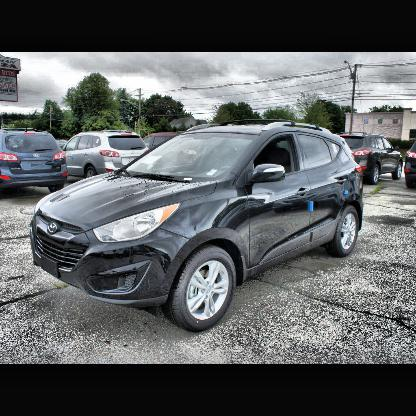Hyundai Tucson SUV 2012: (30, 120, 369, 336)
